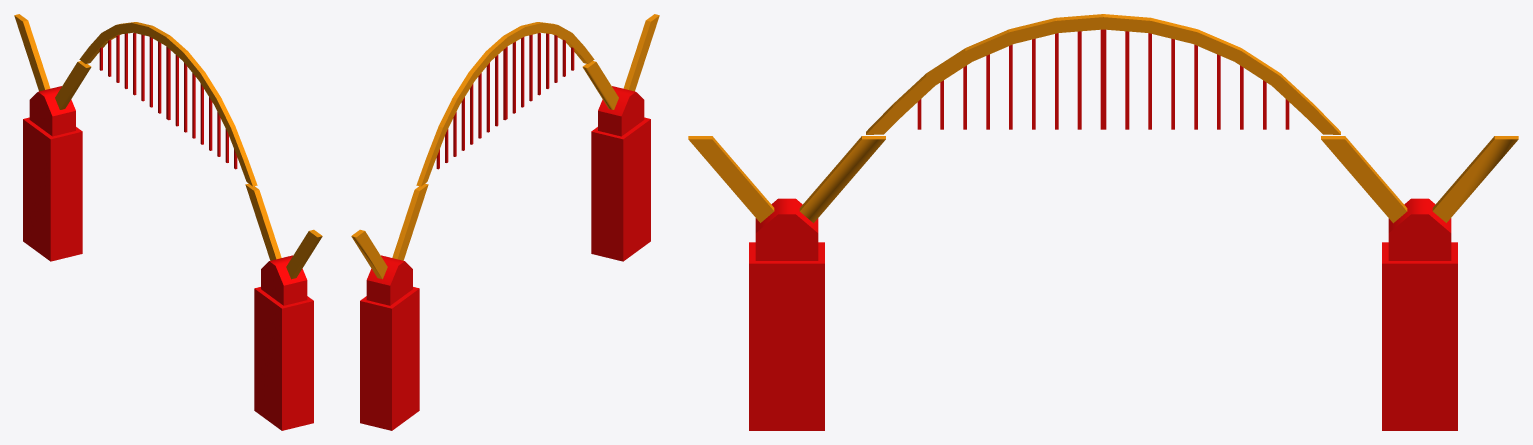
The model's file is Bridge-01A.fbx.
3 renders of one model, left to right at view 1: azimuth 30°, elevation 25°; view 2: azimuth 150°, elevation 25°; view 3: azimuth 270°, elevation 25°, orthographic. The views are drawn at different scales.
Visible parts, largest first — view 1: Bridge-01; view 2: Bridge-01; view 3: Bridge-01.
Part boxes in pixels (box(x1,y1,x2,y2)): Bridge-01: box(14, 14, 322, 430); Bridge-01: box(351, 14, 659, 430); Bridge-01: box(688, 14, 1518, 430).
Size of the model in its own units: 270 by 2378 by 4422.
